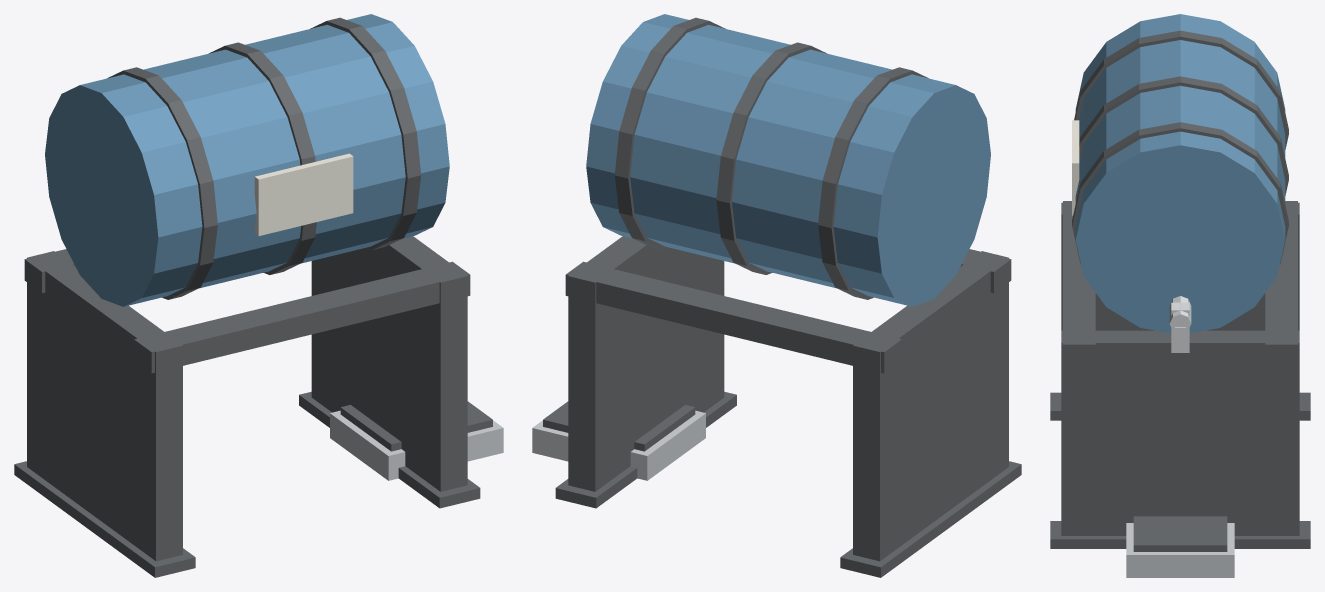
File: oil-drum-on-a-tipping-stand-with-a-tap.glb
3 views of the same model, side by side, from view 1: azimuth 30°, elevation 25°; view 2: azimuth 150°, elevation 25°; view 3: azimuth 270°, elevation 25° (orthographic). The views are drawn at different scales.
Parts seen in each view (by area): view 1: machine-shop-and-factory-hall-oil-drum-stand; view 2: machine-shop-and-factory-hall-oil-drum-stand; view 3: machine-shop-and-factory-hall-oil-drum-stand.
Boxes of the visible parts, left/top/right/bottom form: machine-shop-and-factory-hall-oil-drum-stand: left=14, top=14, right=503, bottom=577; machine-shop-and-factory-hall-oil-drum-stand: left=532, top=14, right=1021, bottom=577; machine-shop-and-factory-hall-oil-drum-stand: left=1050, top=14, right=1310, bottom=577.
Bounding box in the file's own units: 1.15 × 1.22 × 0.72.
